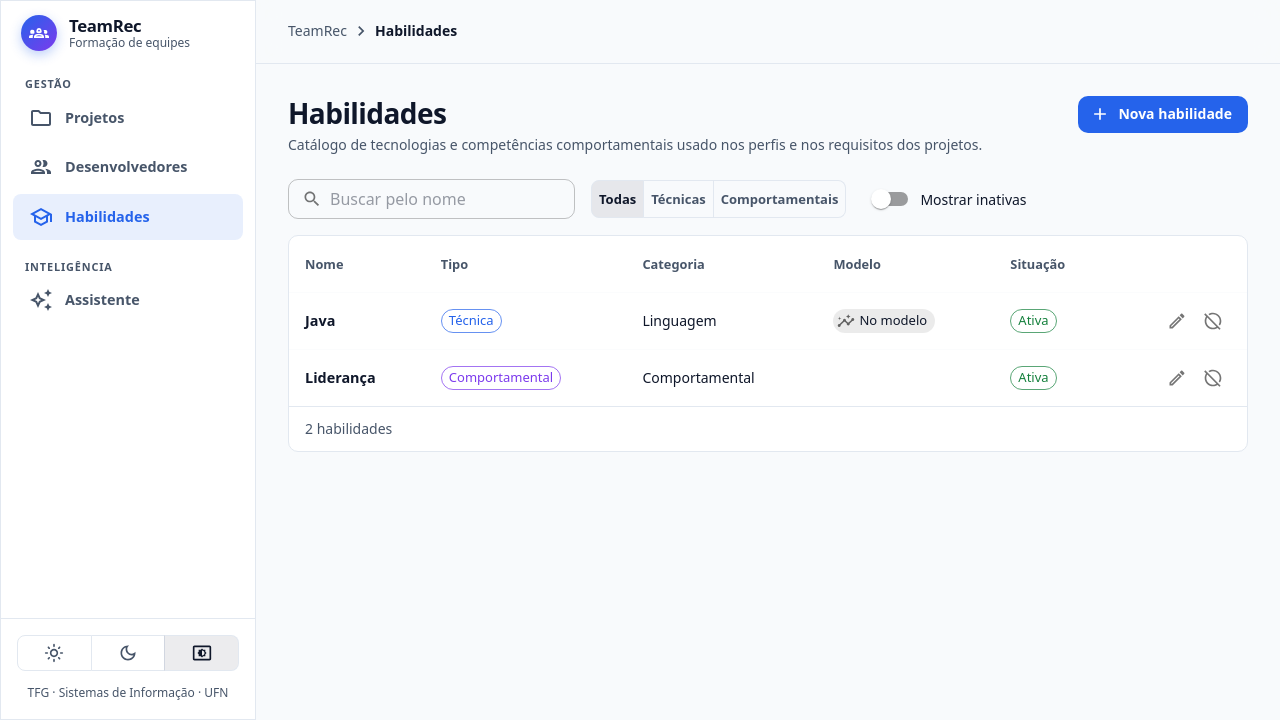
Test: pagina de habilidades › busca pelo nome sem diferenciar maiusculas nem acentos
Type "lider" into the search field named "Buscar habilidade". click: coordinates (452, 199)
box: [330,179,575,219]
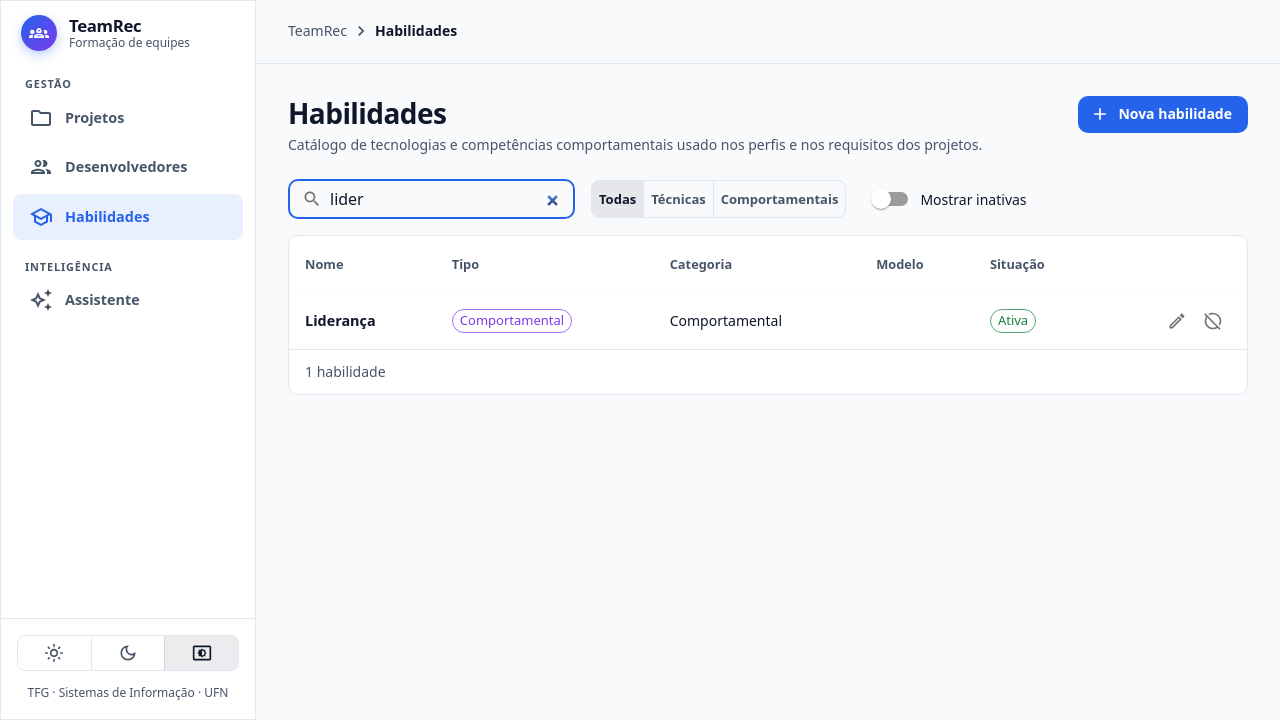
Expected: the text "Java" is gone
